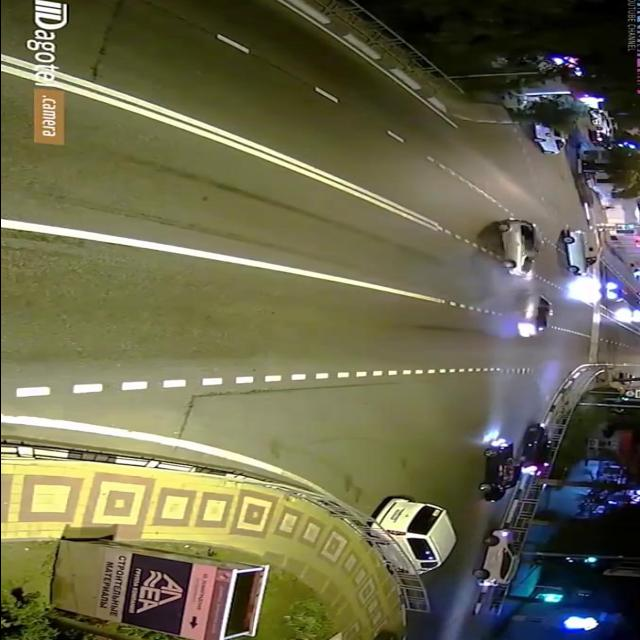accident: (484, 215, 552, 343)
non_accident: (470, 415, 566, 509)
